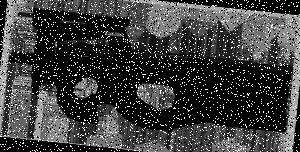SMG: (3, 2, 299, 146)
